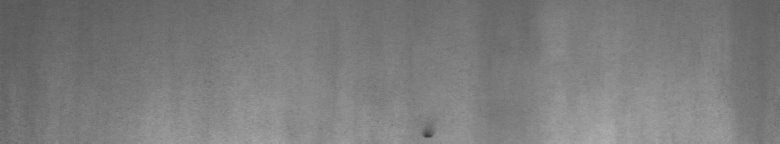fi: (420, 125, 440, 136)
